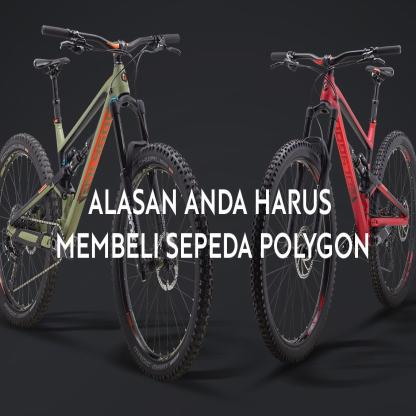Bike: (257, 24, 416, 370)
